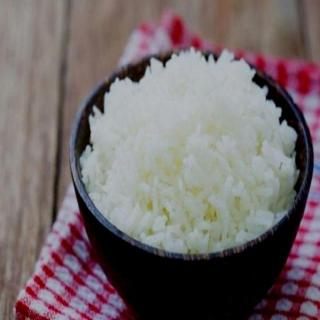Nasi: (79, 45, 303, 254)
